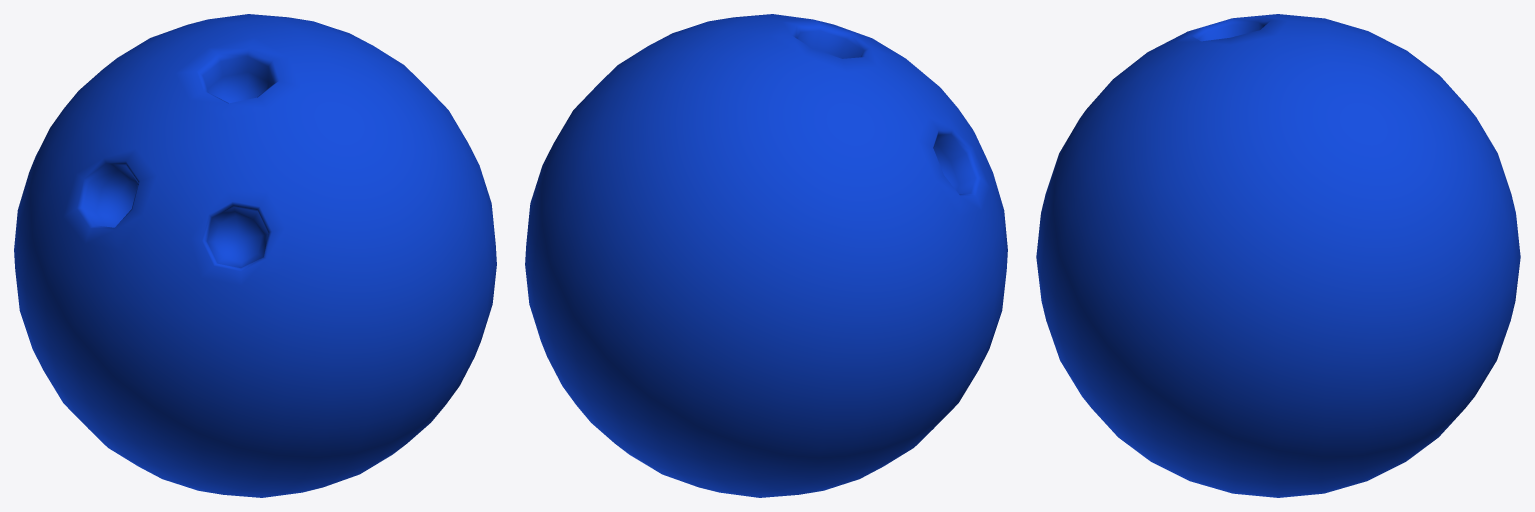
File: bowlingBall10.obj
3 views of the same model, side by side, from view 1: azimuth 30°, elevation 25°; view 2: azimuth 150°, elevation 25°; view 3: azimuth 270°, elevation 25° (orthographic).
Parts seen in each view (by area): view 1: bowlingBall10; view 2: bowlingBall10; view 3: bowlingBall10.
Boxes of the visible parts, left/top/right/bottom form: bowlingBall10: left=14, top=14, right=496, bottom=497; bowlingBall10: left=525, top=14, right=1007, bottom=497; bowlingBall10: left=1036, top=14, right=1520, bottom=497.
Bounding box in the file's own units: 0.173 × 0.173 × 0.173.
